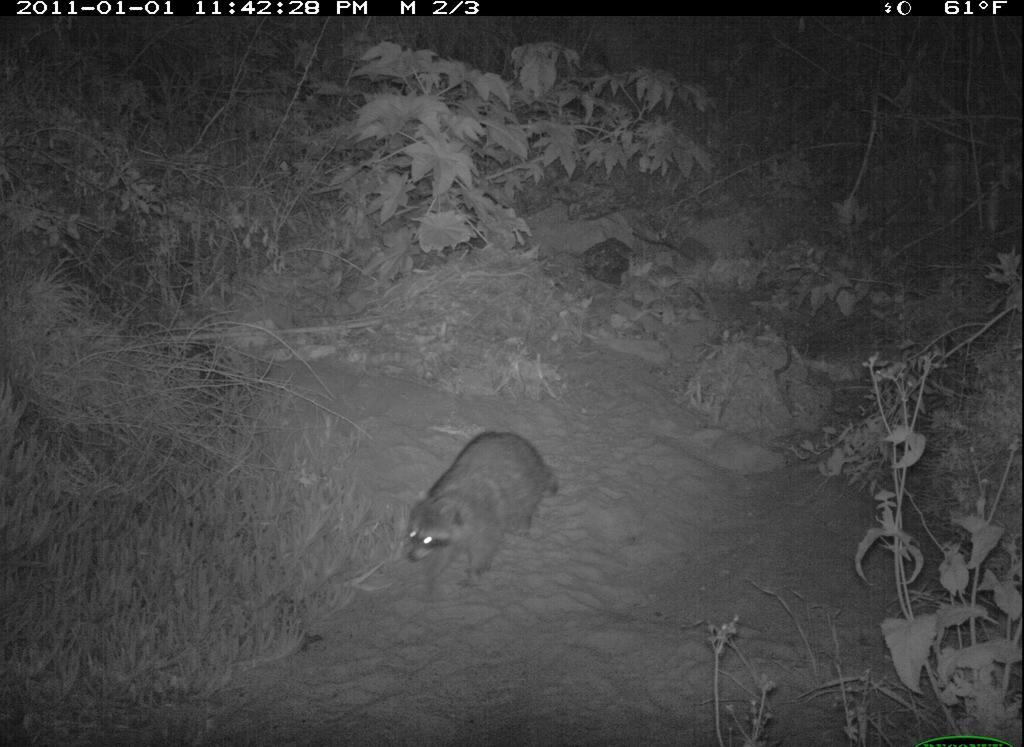raccoon: (400, 425, 570, 605)
